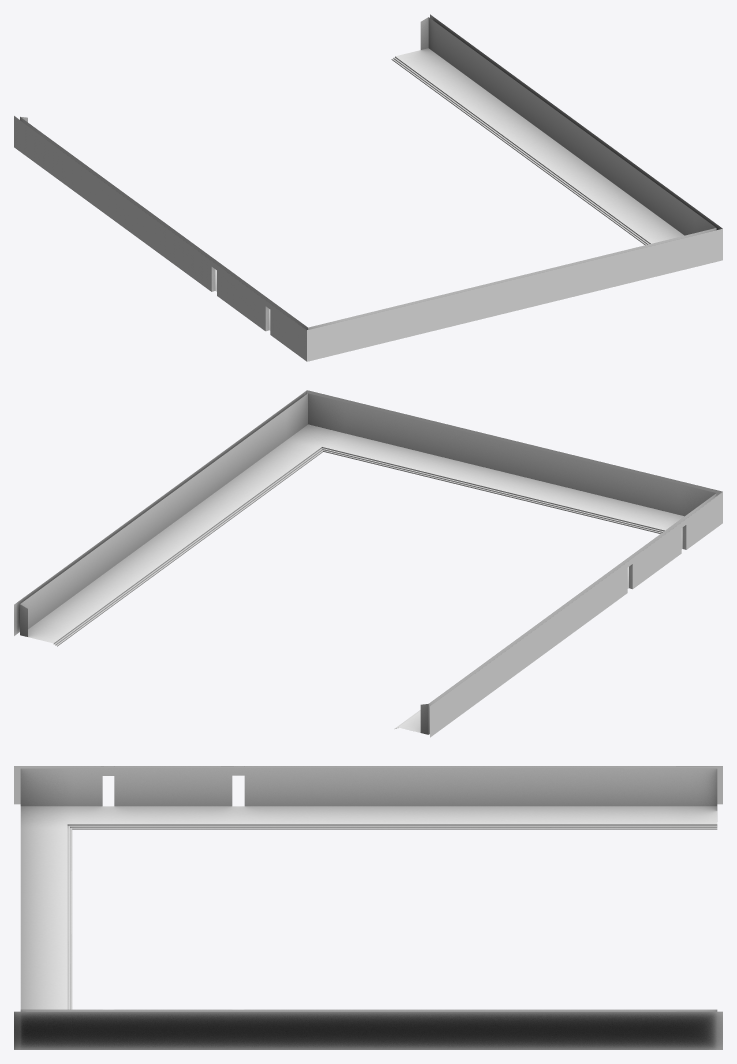
Rendered from court-walls.glb.
The picture shows the model from 3 angles, top to bottom: view 1: azimuth 30°, elevation 25°; view 2: azimuth 150°, elevation 25°; view 3: azimuth 270°, elevation 25°; orthographic projection. The views are drawn at different scales.
Visible parts, largest first — view 1: Plane; view 2: Plane; view 3: Plane.
Boxes of the visible parts, left/top/right/bottom form: Plane: left=14, top=14, right=722, bottom=361; Plane: left=14, top=390, right=722, bottom=737; Plane: left=14, top=766, right=722, bottom=1049.
Bounding box in the file's own units: 108 × 8.45 × 131.
1 material, 1 textured.
